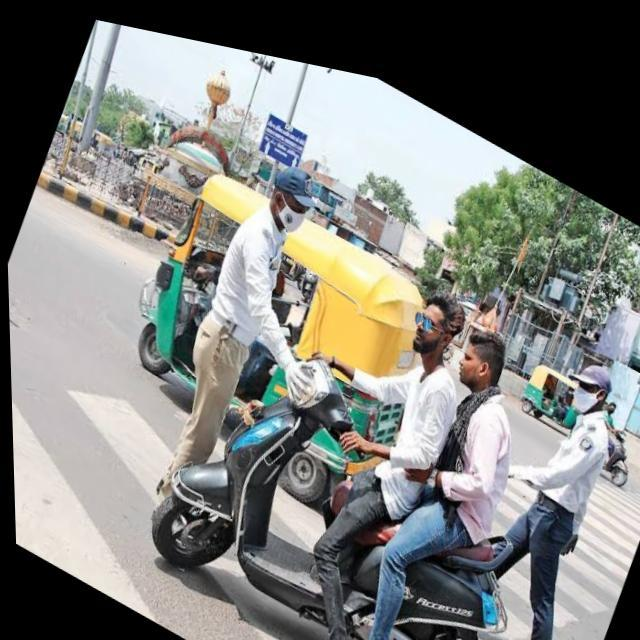Nonhelmet: (399, 291, 470, 360), (449, 324, 511, 393)
